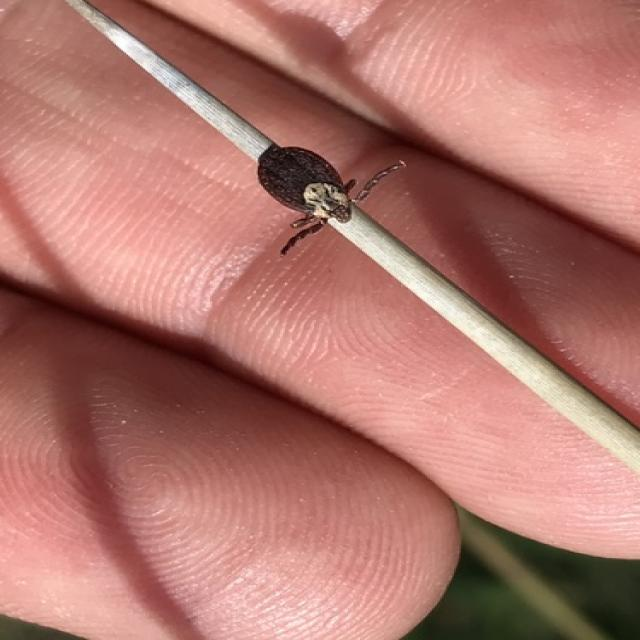Dermacentor Reticulatus-F: (258, 143, 406, 255)
